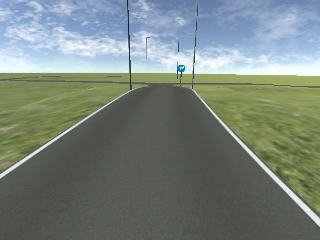right: (177, 65, 186, 73)
